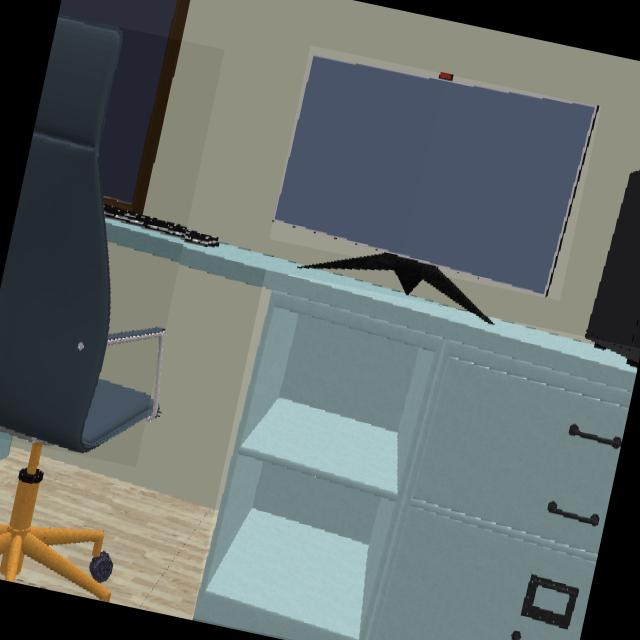cabinet: (191, 281, 637, 640)
chair: (0, 15, 149, 455)
monitor: (273, 56, 600, 297)
